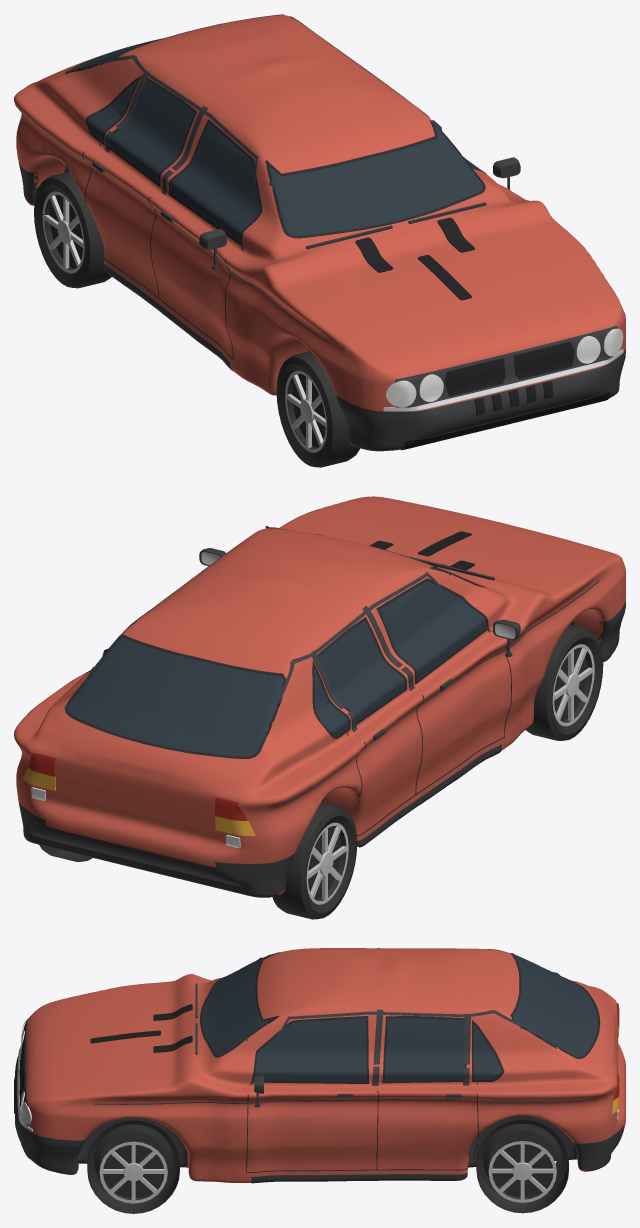
The model's file is delta.glb.
3 views of the same model, one above another, from view 1: azimuth 30°, elevation 25°; view 2: azimuth 150°, elevation 25°; view 3: azimuth 270°, elevation 25° (orthographic). The views are drawn at different scales.
Parts seen in each view (by area): view 1: paint, glass, trim, wheel_fr, wheel_rr, headlights; view 2: paint, glass, trim, wheel_rr, wheel_fr, taillights; view 3: paint, glass, trim, wheel_fl, wheel_rl.
Part boxes in pixels (x1,y1,x2,y2): paint: [14, 15, 625, 451]; glass: [68, 40, 482, 242]; trim: [15, 14, 623, 450]; wheel_fr: [276, 351, 359, 467]; wheel_rr: [34, 171, 111, 288]; headlights: [386, 328, 623, 407]; paint: [14, 496, 625, 897]; glass: [66, 526, 486, 756]; trim: [64, 525, 599, 847]; wheel_rr: [272, 802, 357, 919]; wheel_fr: [526, 625, 603, 740]; taillights: [28, 752, 247, 820]; paint: [15, 948, 625, 1182]; glass: [202, 954, 597, 1081]; trim: [14, 948, 600, 1183]; wheel_fl: [87, 1120, 179, 1213]; wheel_rl: [476, 1119, 568, 1213].
Bounding box in the file's own units: 1.86 × 1.38 × 3.9.
